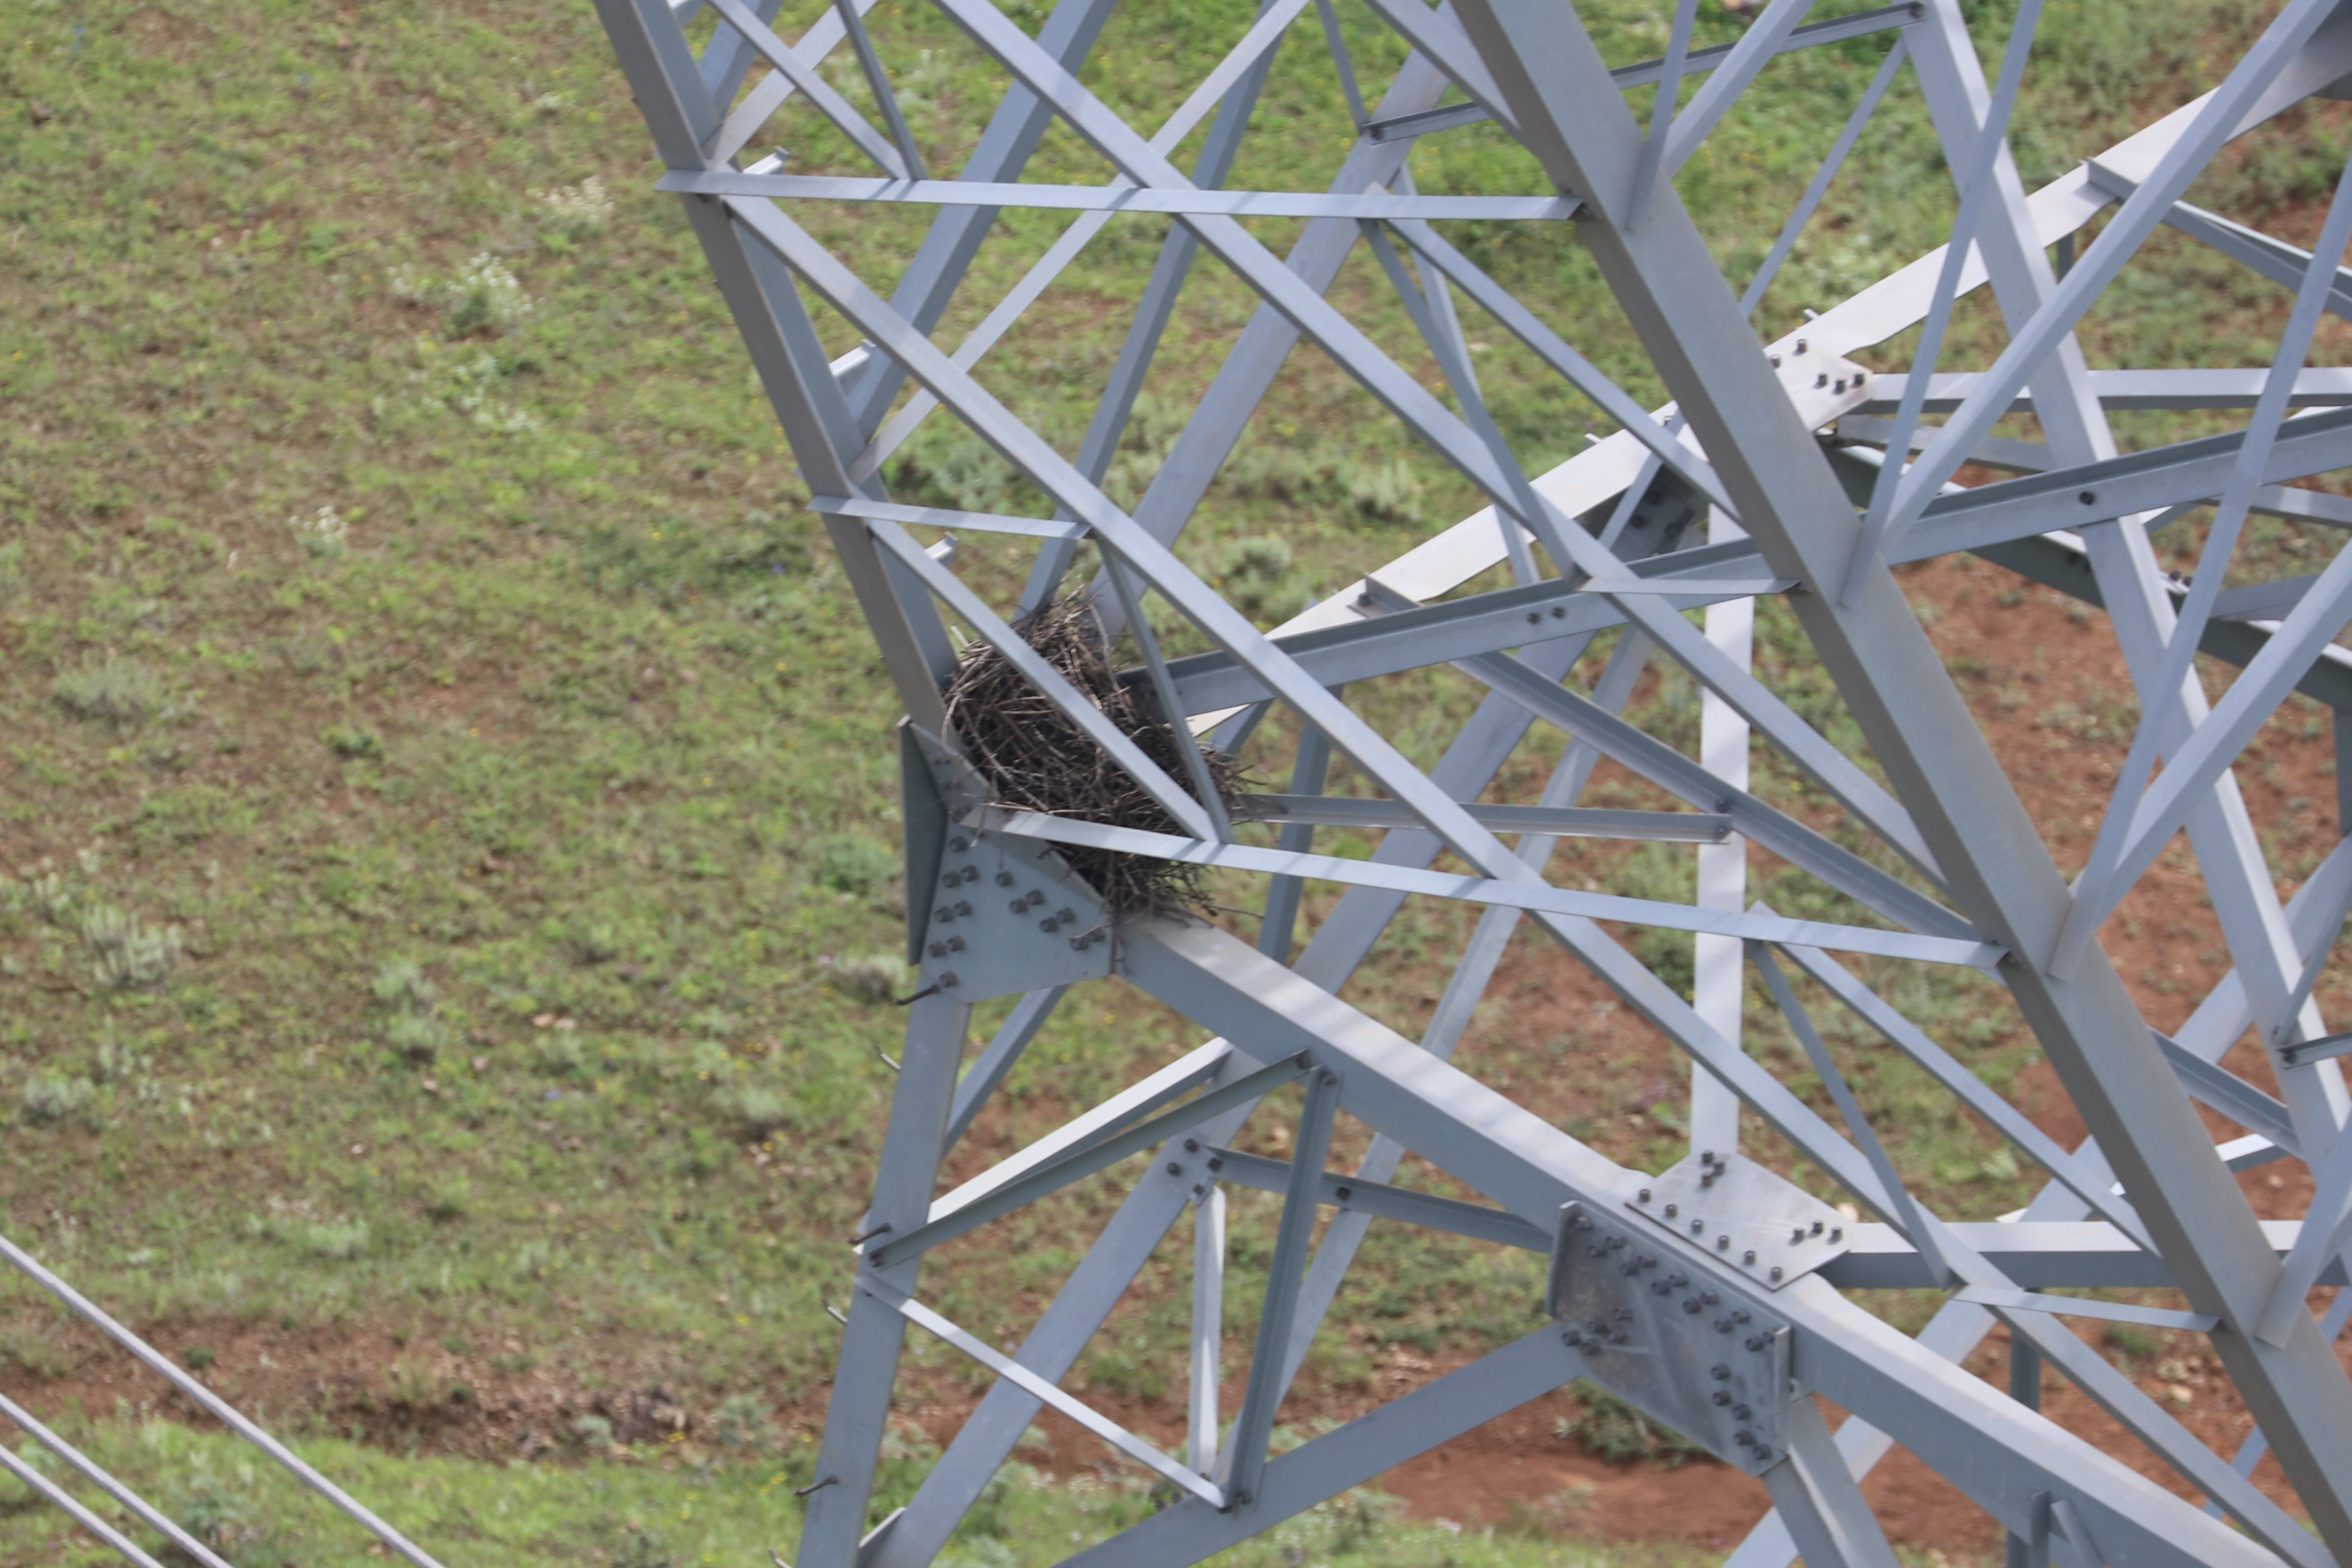niaowo: (910, 584, 1276, 927)
